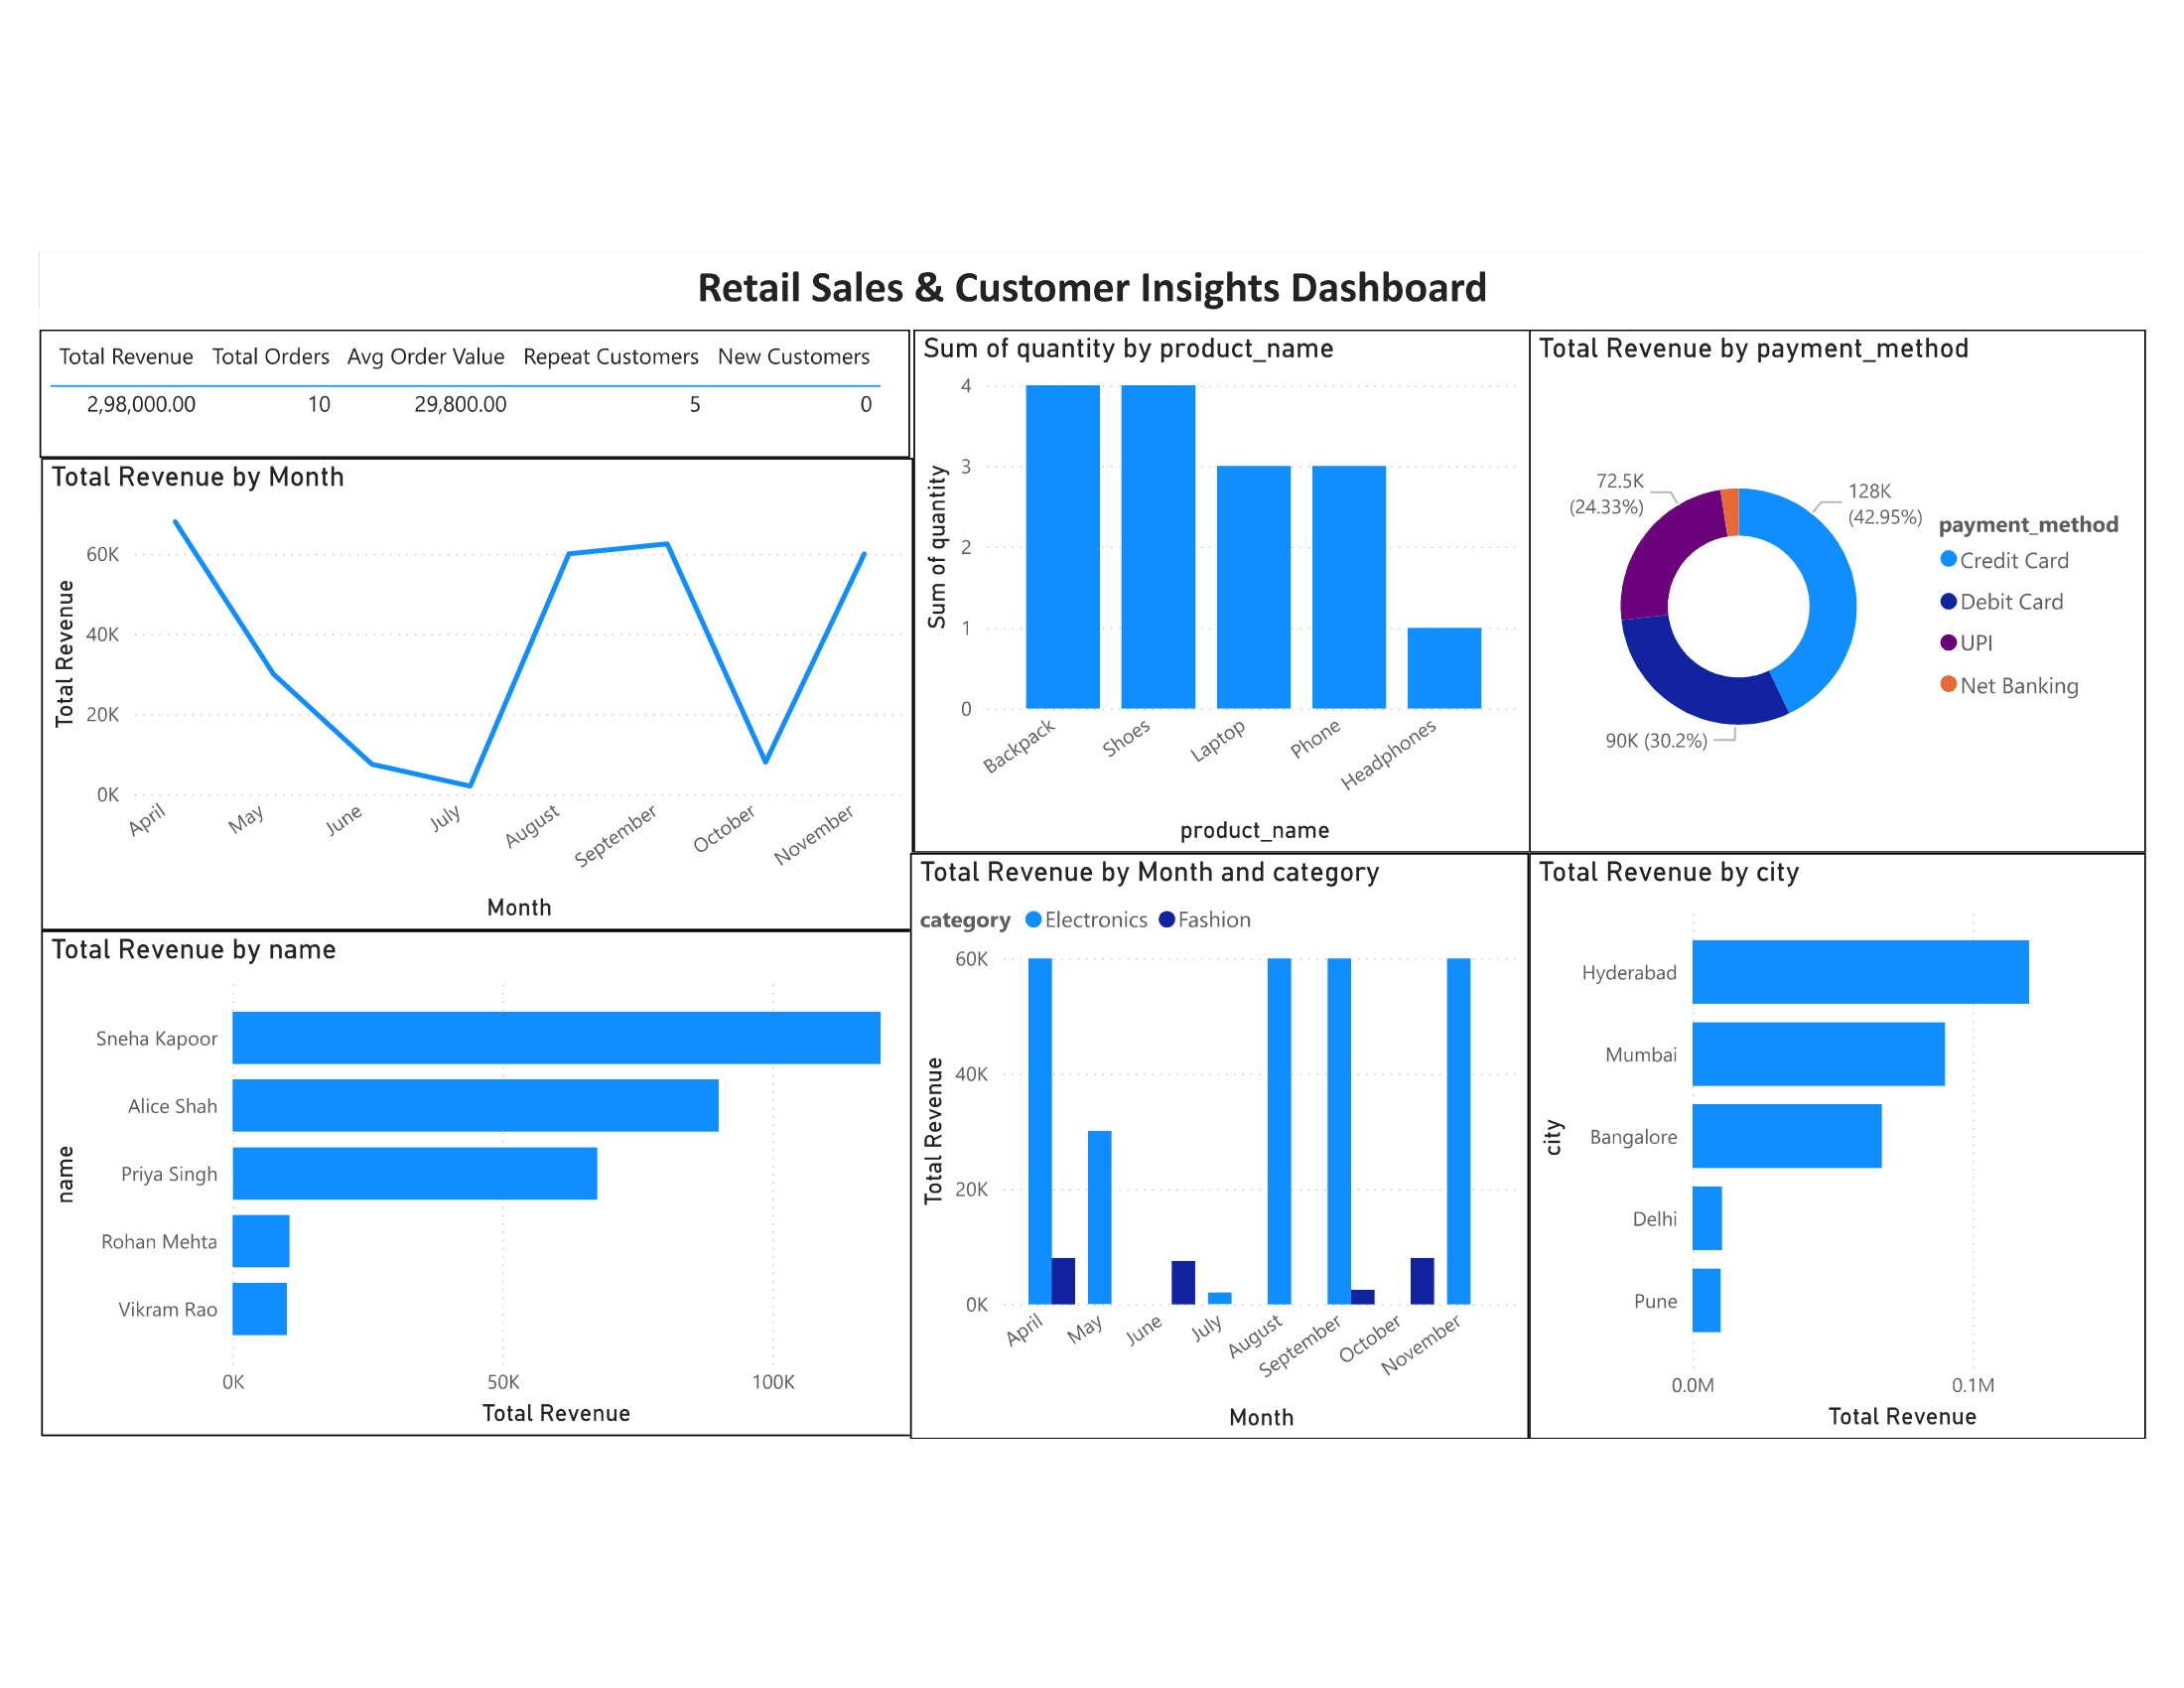

The dashboard page shown, as its layout file describes it:
{"tool":"powerbi","page":{"name":"Page 1","canvas":[1280,720],"ordinal":0},"visuals":[{"type":"tableEx","fields":{"Values":["public customers.Total Revenue","public customers.Total Orders","public customers.Avg Order Value","public customers.Repeat Customers","public customers.New Customers"]},"box":[0,47.2,529.4,78.1],"z":0},{"type":"lineChart","fields":{"Category":["public orders.order_date.Variation.Date Hierarchy.Month"],"Y":["public customers.Total Revenue"]},"box":[1.3,125.3,529.4,286.9],"z":1000},{"type":"barChart","fields":{"Category":["public customers.name"],"Y":["public customers.Total Revenue"]},"box":[1.3,412.2,529.4,307.2],"z":2000},{"type":"clusteredColumnChart","fields":{"Category":["public products.product_name"],"Y":["Sum(public orders.quantity)"]},"box":[530.8,47.2,375.9,317.9],"z":3000},{"type":"donutChart","fields":{"Category":["public orders.payment_method"],"Y":["public customers.Total Revenue"]},"box":[905.3,47.2,374.5,317.9],"z":4000},{"type":"clusteredColumnChart","fields":{"Category":["public orders.order_date.Variation.Date Hierarchy.Month"],"Series":["public products.category"],"Y":["public customers.Total Revenue"]},"box":[529.4,365.1,375.9,355.7],"z":5000},{"type":"barChart","fields":{"Category":["public customers.city"],"Y":["public customers.Total Revenue"]},"box":[905.2,386,374.4,334.4],"z":6000},{"type":"textbox","box":[0,0,1279.8,47.2],"z":7000}]}

Visuals, with their boxes in screenshot pixels (x1, y1, x2, y2):
tableEx - public customers.Total Revenue x public customers.Total Orders: bbox=(52, 333, 910, 460)
lineChart - public orders.order_date.Variation.Date Hierarchy.Month x public customers.Total Revenue: bbox=(54, 460, 912, 925)
barChart - public customers.name x public customers.Total Revenue: bbox=(54, 925, 912, 1424)
clusteredColumnChart - public products.product_name x Sum(public orders.quantity): bbox=(912, 333, 1523, 849)
donutChart - public orders.payment_method x public customers.Total Revenue: bbox=(1521, 333, 2128, 849)
clusteredColumnChart - public orders.order_date.Variation.Date Hierarchy.Month x public products.category: bbox=(910, 849, 1521, 1426)
barChart - public customers.city x public customers.Total Revenue: bbox=(1520, 883, 2128, 1426)
textbox: bbox=(52, 256, 2128, 333)
